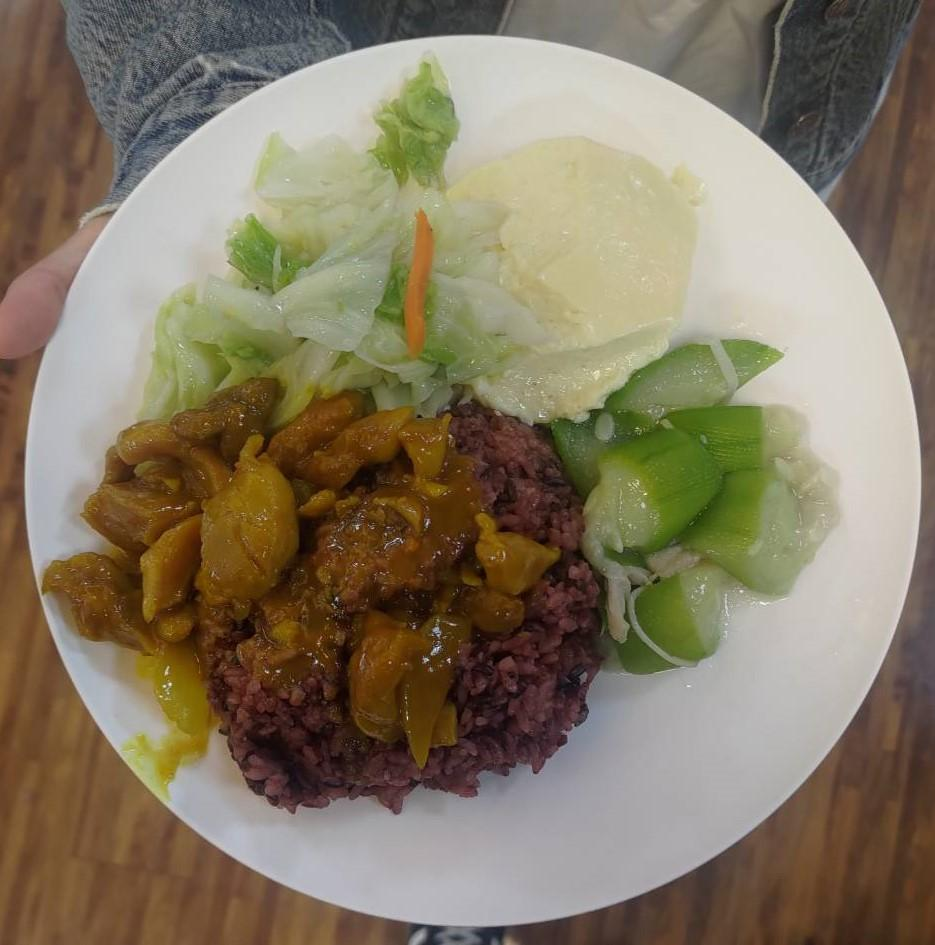big fried chicken leg: (28, 28, 925, 930)
braised fish: (213, 396, 588, 799)
braised fish fillet: (122, 50, 464, 415), (573, 324, 838, 672), (447, 138, 702, 420)
braised pork: (58, 390, 503, 744)
